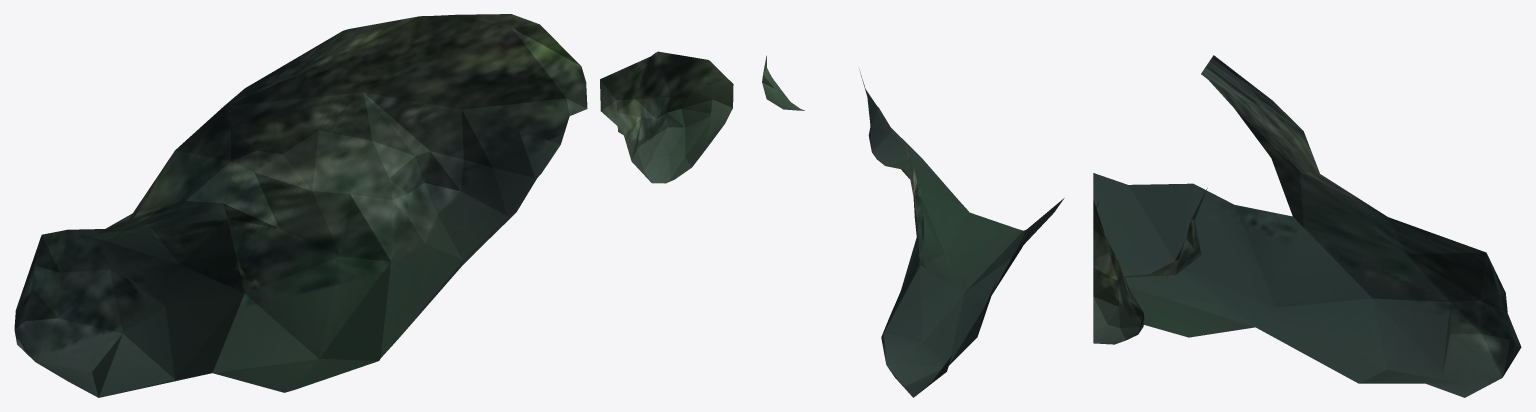
The picture shows the model from 3 angles, left to right: view 1: azimuth 30°, elevation 25°; view 2: azimuth 150°, elevation 25°; view 3: azimuth 270°, elevation 25°; orthographic projection. The views are drawn at different scales.
Bounding box in the file's own units: 18.61 × 15.4 × 14.29.
Materials: 1 (1 with a texture image).
